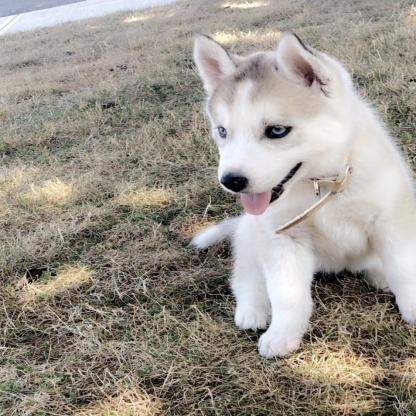dog: (180, 33, 416, 355)
